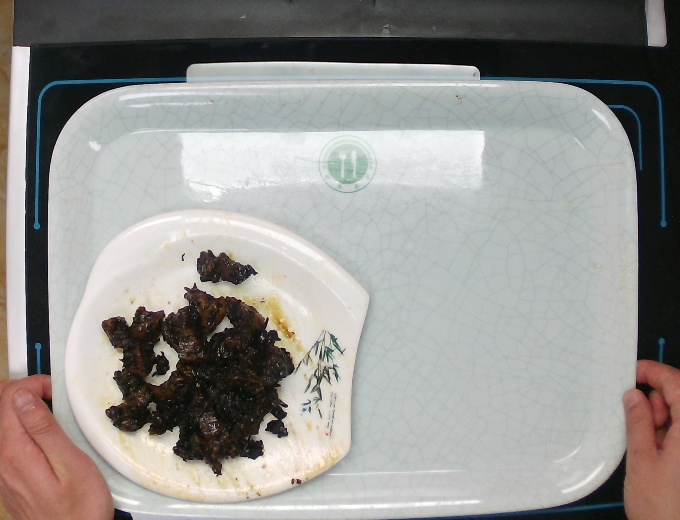JYsf-Mian_Pan: (60, 205, 374, 504)
